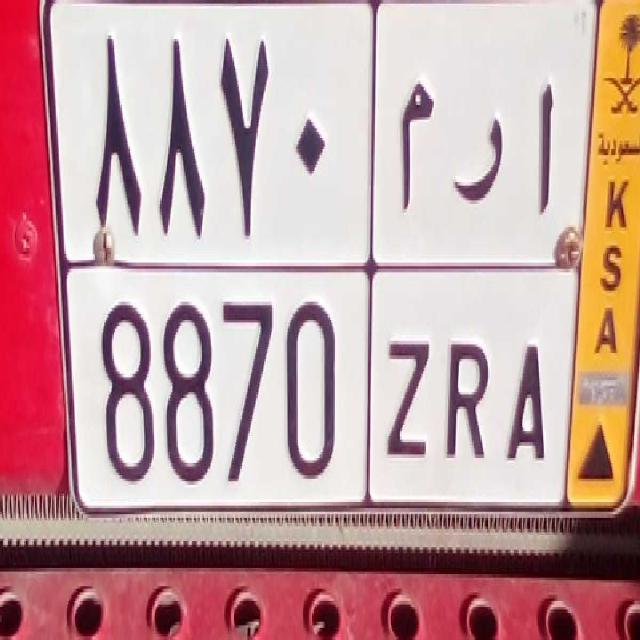license_plate: (84, 275, 562, 519)
